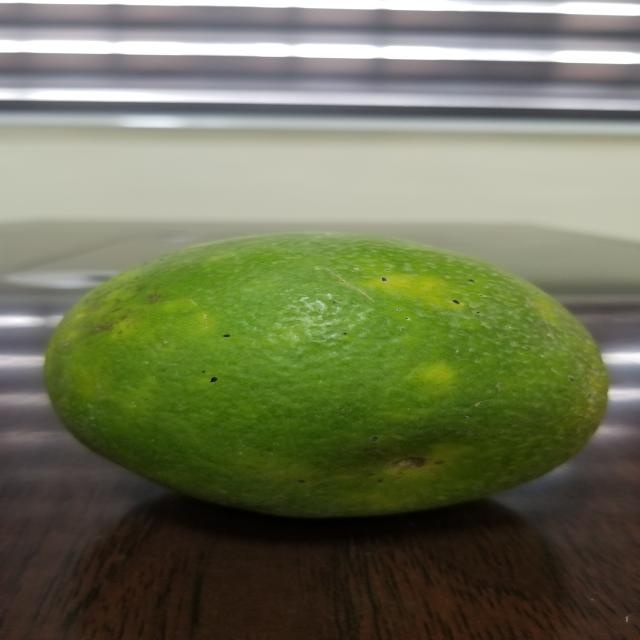agrume: (36, 212, 640, 528)
